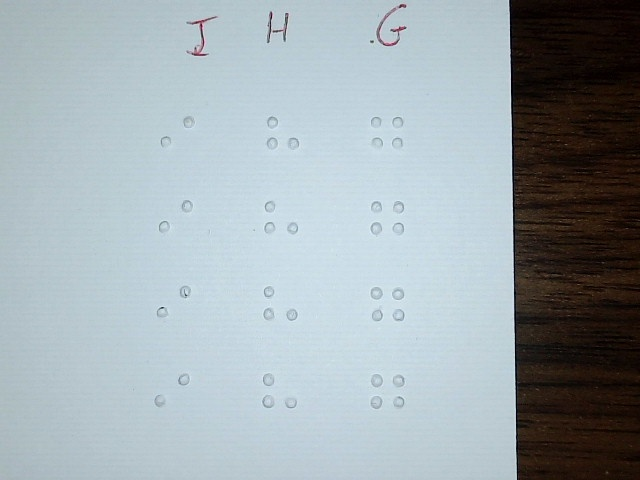G: (368, 103, 408, 170), (368, 189, 408, 256), (368, 275, 408, 342), (368, 364, 408, 431)
H: (263, 104, 303, 171), (260, 188, 300, 255), (259, 274, 299, 341), (260, 363, 300, 430)
I: (158, 104, 198, 171), (157, 189, 197, 256), (152, 361, 192, 428)
